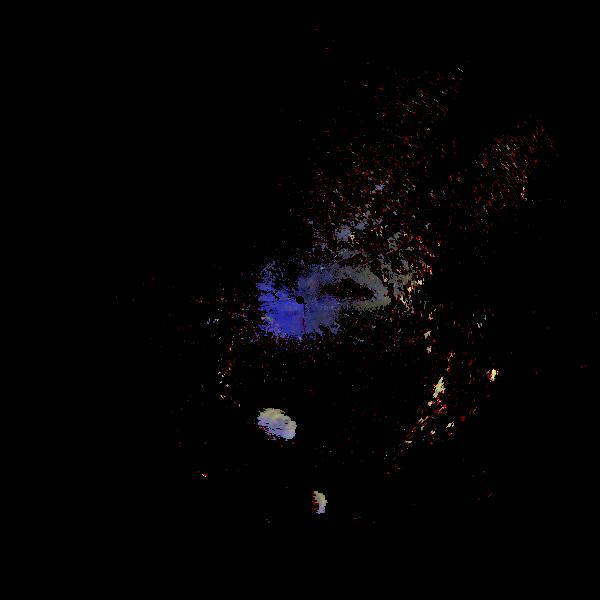roost: (265, 412, 298, 445), (302, 490, 329, 517)
